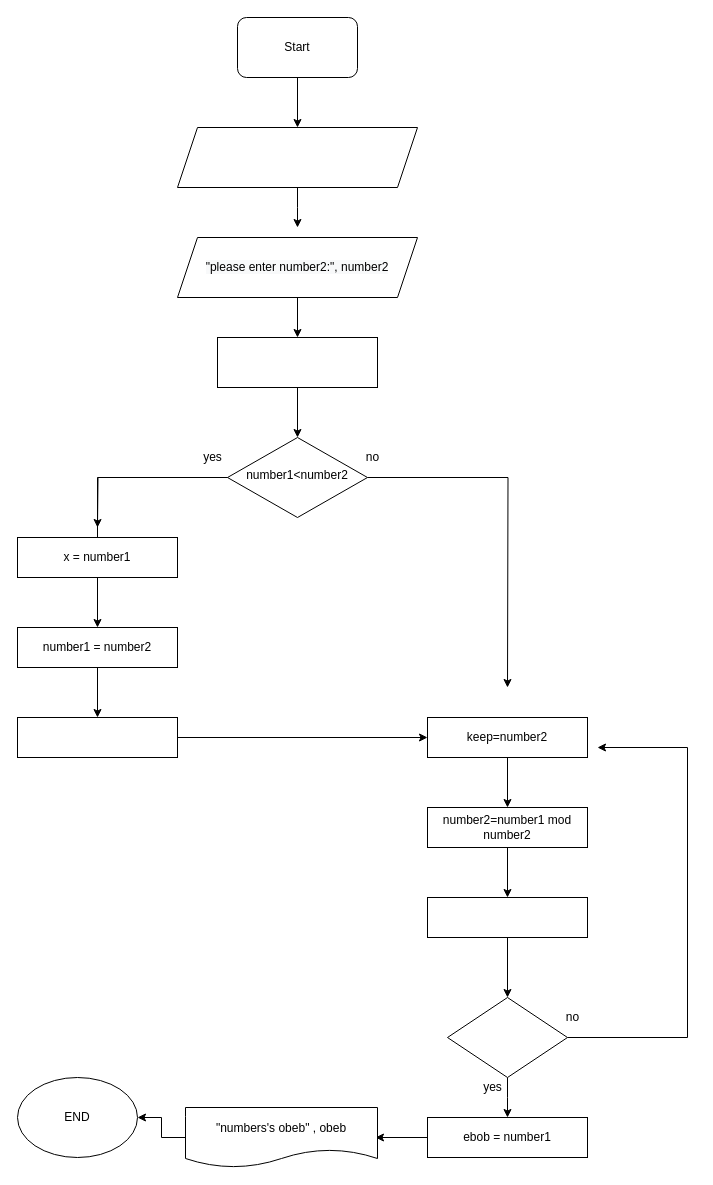
Some shapes in this 713 by 1185 pixel diagram are drawn without their labels. The centre of each missing label's shape, as x and y in pixels:
"please enter number1:", number1: (297,157)
number1*number2: (297,362)
number1=keep: (507,917)
number2 = 0: (507,1037)
number2 = x: (97,737)
